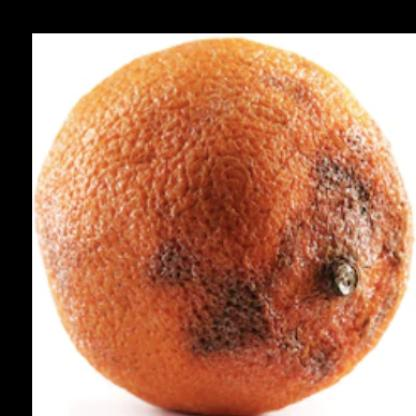rotten: (40, 39, 404, 416)
